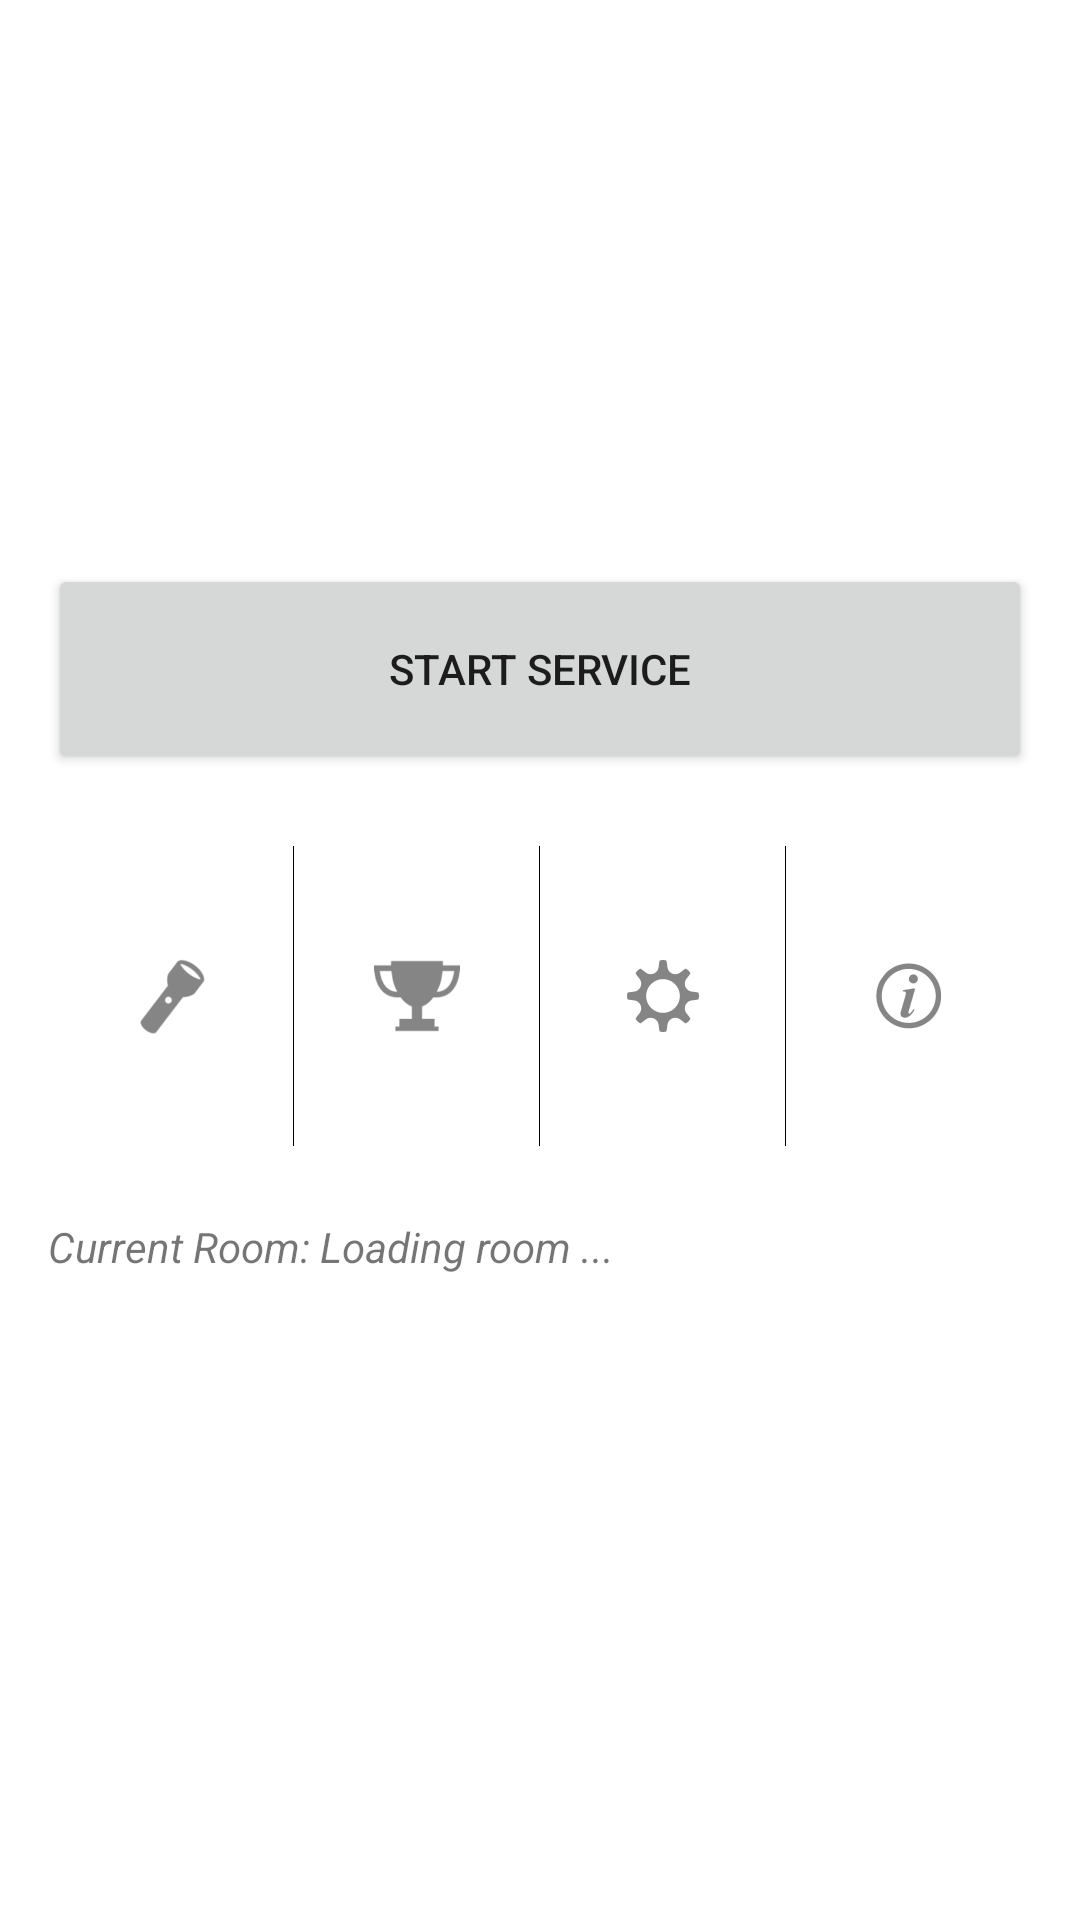

Locate icon controls on the screen. Image size 1080×1920, boxes as (x1, y1, x2, y2).
Info: (876, 963, 941, 1029)
Light mode: (140, 960, 205, 1034)
Ranking: (374, 961, 460, 1031)
Settings: (627, 960, 699, 1032)
